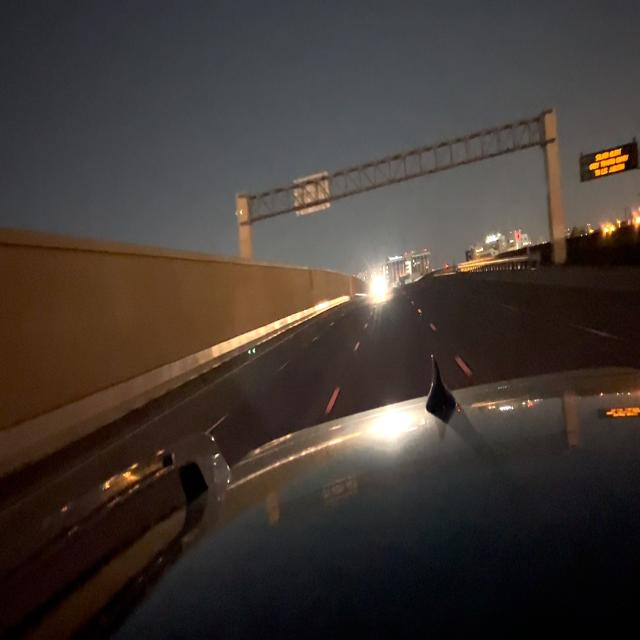back-of-sign: (293, 169, 331, 219)
